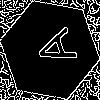A: (25, 25, 78, 73)
